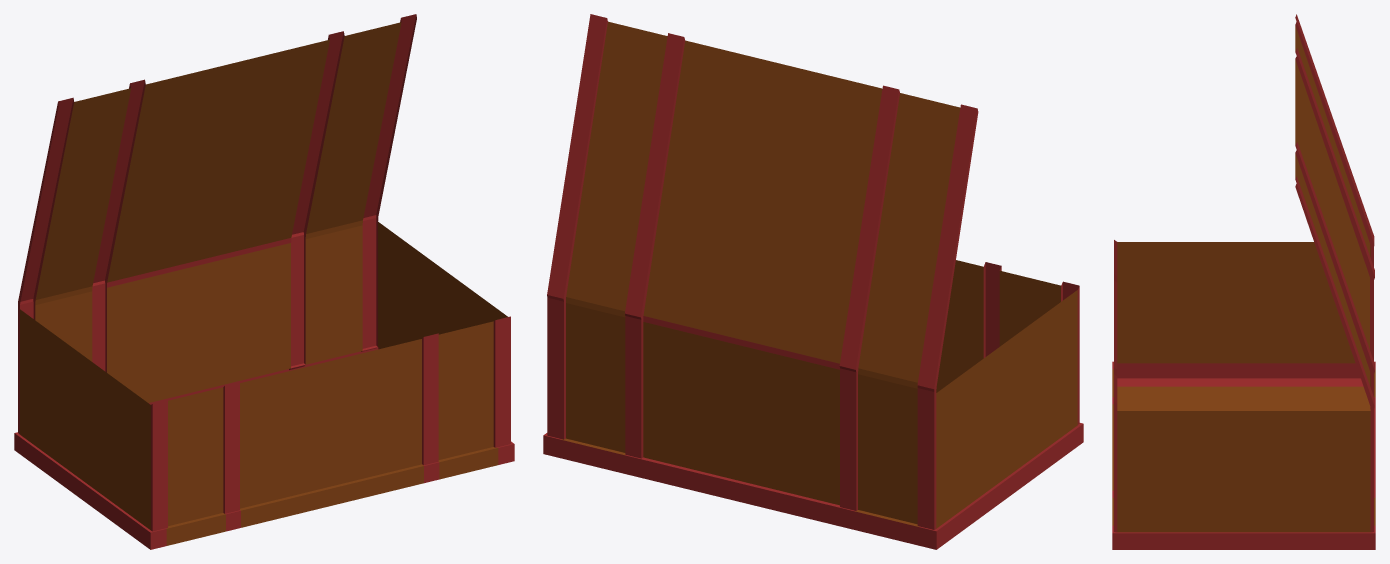
File: TreasureBox_open.fbx
3 views of the same model, side by side, from view 1: azimuth 30°, elevation 25°; view 2: azimuth 150°, elevation 25°; view 3: azimuth 270°, elevation 25° (orthographic). The views are drawn at different scales.
Parts seen in each view (by area): view 1: TreasureBox_open; view 2: TreasureBox_open; view 3: TreasureBox_open.
Part boxes in pixels (x1,y1,x2,y2): TreasureBox_open: (14, 14, 514, 549); TreasureBox_open: (543, 14, 1083, 549); TreasureBox_open: (1112, 14, 1375, 549).
Size of the model in its own units: 6235 by 6195 by 4042.
